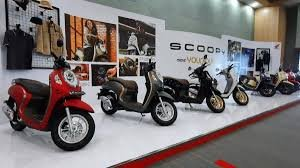motor: (7, 63, 99, 147), (103, 66, 175, 130), (167, 67, 223, 114)
